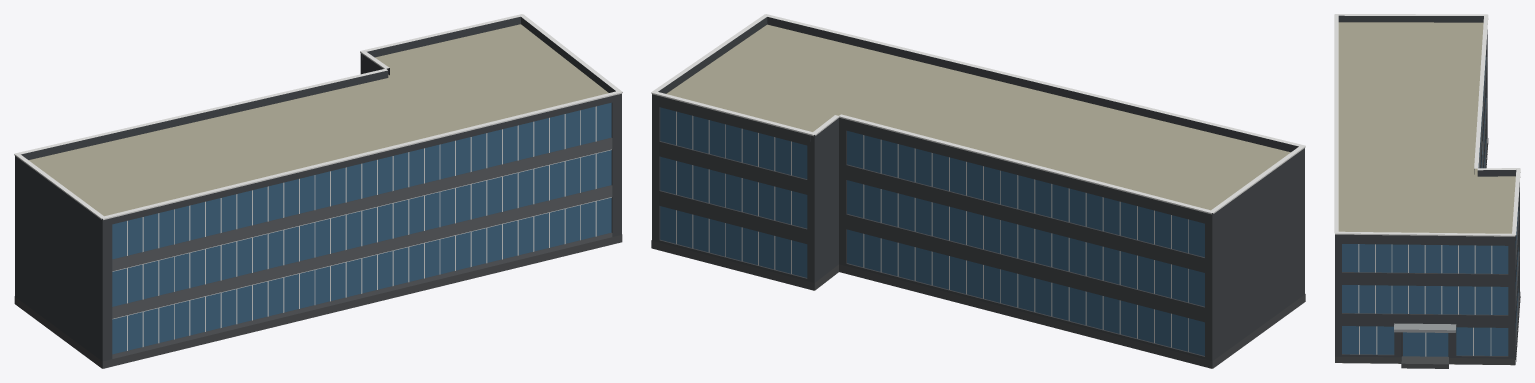
3 renders of one model, left to right at view 1: azimuth 30°, elevation 25°; view 2: azimuth 150°, elevation 25°; view 3: azimuth 270°, elevation 25°, orthographic. The views are drawn at different scales.
Parts seen in each view (by area): view 1: hyehwaAnnex__glass, hyehwaAnnex__roof, hyehwaAnnex__wall, hyehwaAnnex__spandrel, hyehwaAnnex__parapet, hyehwaAnnex__frame, hyehwaAnnex__trim, hyehwaAnnex__base; view 2: hyehwaAnnex__glass, hyehwaAnnex__roof, hyehwaAnnex__wall, hyehwaAnnex__parapet, hyehwaAnnex__base, hyehwaAnnex__trim, hyehwaAnnex__frame; view 3: hyehwaAnnex__roof, hyehwaAnnex__glass, hyehwaAnnex__wall, hyehwaAnnex__trim, hyehwaAnnex__parapet, hyehwaAnnex__base, hyehwaAnnex__frame, hyehwaAnnex__canopy.
Boxes of the visible parts, x1,y1,x2,y2 form: hyehwaAnnex__glass: [112, 102, 611, 354]; hyehwaAnnex__roof: [29, 24, 608, 368]; hyehwaAnnex__wall: [15, 59, 621, 368]; hyehwaAnnex__spandrel: [112, 138, 612, 358]; hyehwaAnnex__parapet: [15, 16, 621, 225]; hyehwaAnnex__frame: [112, 106, 611, 350]; hyehwaAnnex__trim: [14, 14, 622, 219]; hyehwaAnnex__base: [14, 234, 622, 368]; hyehwaAnnex__glass: [660, 107, 1204, 355]; hyehwaAnnex__roof: [666, 24, 1290, 368]; hyehwaAnnex__wall: [652, 100, 1304, 368]; hyehwaAnnex__parapet: [652, 17, 1304, 220]; hyehwaAnnex__base: [651, 240, 1305, 368]; hyehwaAnnex__trim: [651, 14, 1305, 214]; hyehwaAnnex__frame: [676, 111, 1188, 351]; hyehwaAnnex__roof: [1338, 22, 1515, 365]; hyehwaAnnex__glass: [1342, 56, 1518, 356]; hyehwaAnnex__wall: [1335, 30, 1519, 364]; hyehwaAnnex__trim: [1334, 14, 1520, 236]; hyehwaAnnex__parapet: [1335, 15, 1516, 241]; hyehwaAnnex__base: [1335, 138, 1520, 368]; hyehwaAnnex__frame: [1358, 102, 1492, 356]; hyehwaAnnex__canopy: [1394, 323, 1456, 332].
Bounding box in the file's own units: 45 × 12.4 × 15.64.
